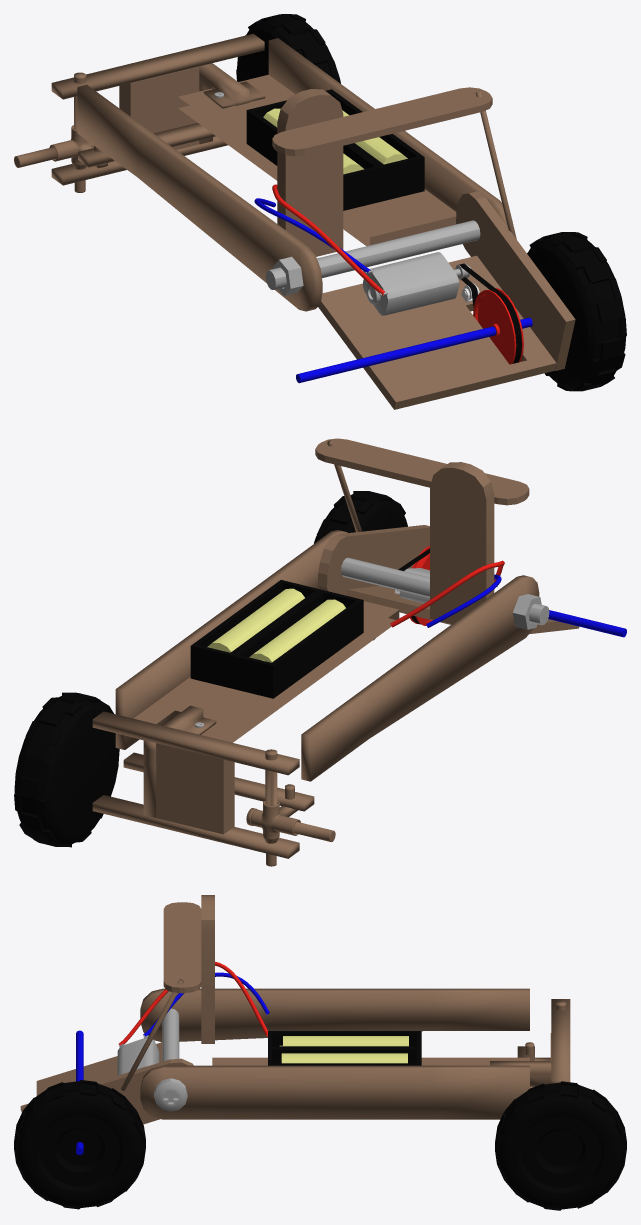
File: Monster_rc.glb
The picture shows the model from 3 angles, top to bottom: view 1: azimuth 30°, elevation 25°; view 2: azimuth 150°, elevation 25°; view 3: azimuth 270°, elevation 25°; orthographic projection. The views are drawn at different scales.
Visible parts, largest first — view 1: Cube, Cube.004, Cylinder.004, Cube.002, Cube.003, Cube.001, Cube.008, Cube.009, Cube.005, Cylinder.002, Cube.013, Cylinder (+12 smaller); view 2: Cube, Cylinder.005, Cube.009, Cube.003, Cube.002, Cube.012, Cube.001, Cube.008, Cube.013, Cube.014, Cylinder.006, Cylinder.004 (+9 smaller); view 3: Cube, Cylinder.005, Cylinder.004, Cube.008, Cube.009, Cube.003, Cylinder, Cube.013, Cylinder.007, Cylinder.008, Cube.001, Cube.002 (+6 smaller).
Part boxes in pixels (x1,y1,x2,y2): Cube: [77, 38, 507, 311]; Cube.004: [318, 255, 556, 409]; Cylinder.004: [527, 232, 626, 391]; Cube.002: [178, 74, 456, 246]; Cube.003: [277, 89, 343, 256]; Cube.001: [456, 191, 575, 370]; Cube.008: [272, 87, 492, 156]; Cube.009: [246, 89, 424, 210]; Cube.005: [363, 252, 470, 315]; Cylinder.002: [296, 288, 532, 383]; Cube.013: [51, 33, 264, 99]; Cylinder: [265, 220, 480, 289]; Cube: [115, 530, 539, 781]; Cylinder.005: [14, 692, 119, 847]; Cube.009: [190, 580, 363, 698]; Cube.003: [430, 462, 494, 623]; Cube.002: [125, 601, 399, 742]; Cube.012: [156, 743, 234, 834]; Cube.001: [317, 525, 429, 595]; Cube.008: [315, 438, 529, 505]; Cube.013: [92, 711, 299, 775]; Cube.014: [92, 795, 299, 858]; Cylinder.006: [246, 749, 335, 866]; Cylinder.004: [314, 491, 407, 640]; Cube: [140, 988, 529, 1119]; Cylinder.005: [495, 1081, 626, 1210]; Cylinder.004: [14, 1080, 145, 1209]; Cube.008: [163, 902, 201, 993]; Cube.009: [268, 1031, 421, 1065]; Cube.003: [201, 895, 214, 1043]; Cylinder: [154, 1008, 187, 1111]; Cube.013: [551, 999, 570, 1083]; Cylinder.007: [281, 1053, 407, 1063]; Cylinder.008: [280, 1036, 408, 1046]; Cube.001: [20, 1058, 193, 1124]; Cube.002: [212, 1057, 529, 1065].
Bounding box in the file's own units: 0.9995 × 0.8775 × 2.11.
